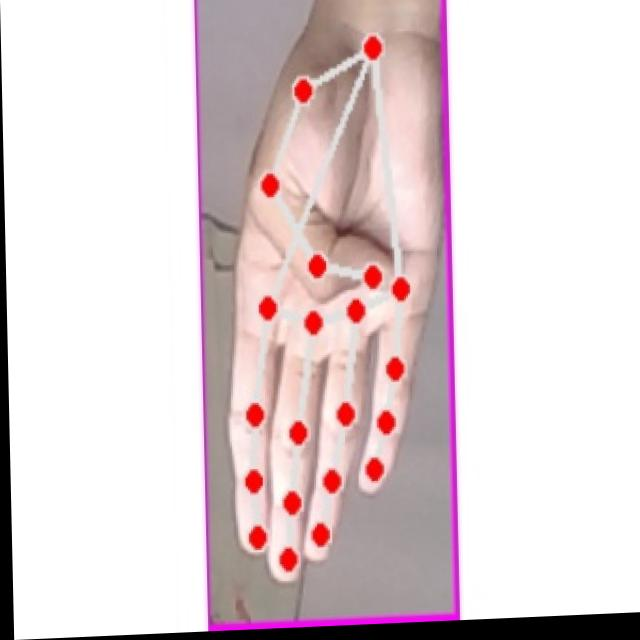B: (209, 14, 446, 598)
